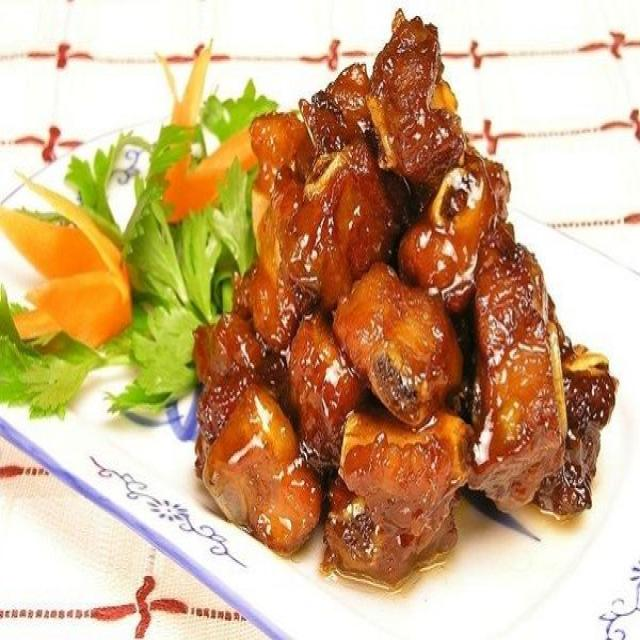suon xao: (196, 11, 565, 581)
